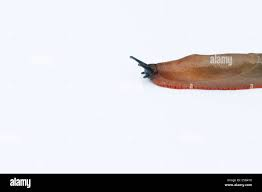slug: (139, 52, 262, 88)
